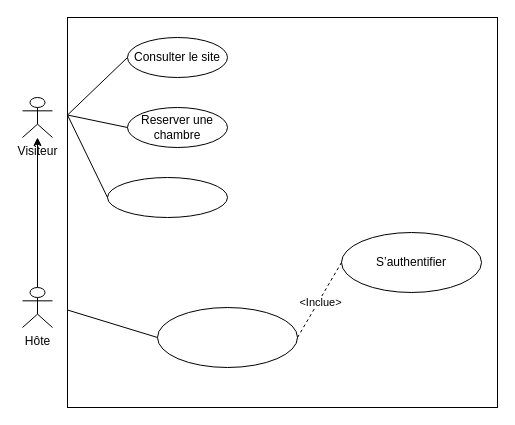
The diagram is 515 pixels wide and 425 high, and some of its shapes have lost their labels. Here are the shapes that lost their labels. From the top down, the centre of each, then its label:
At point (167, 197): "Contacter l'hôte".
At point (227, 337): "Espace de Gestion de contenu".
